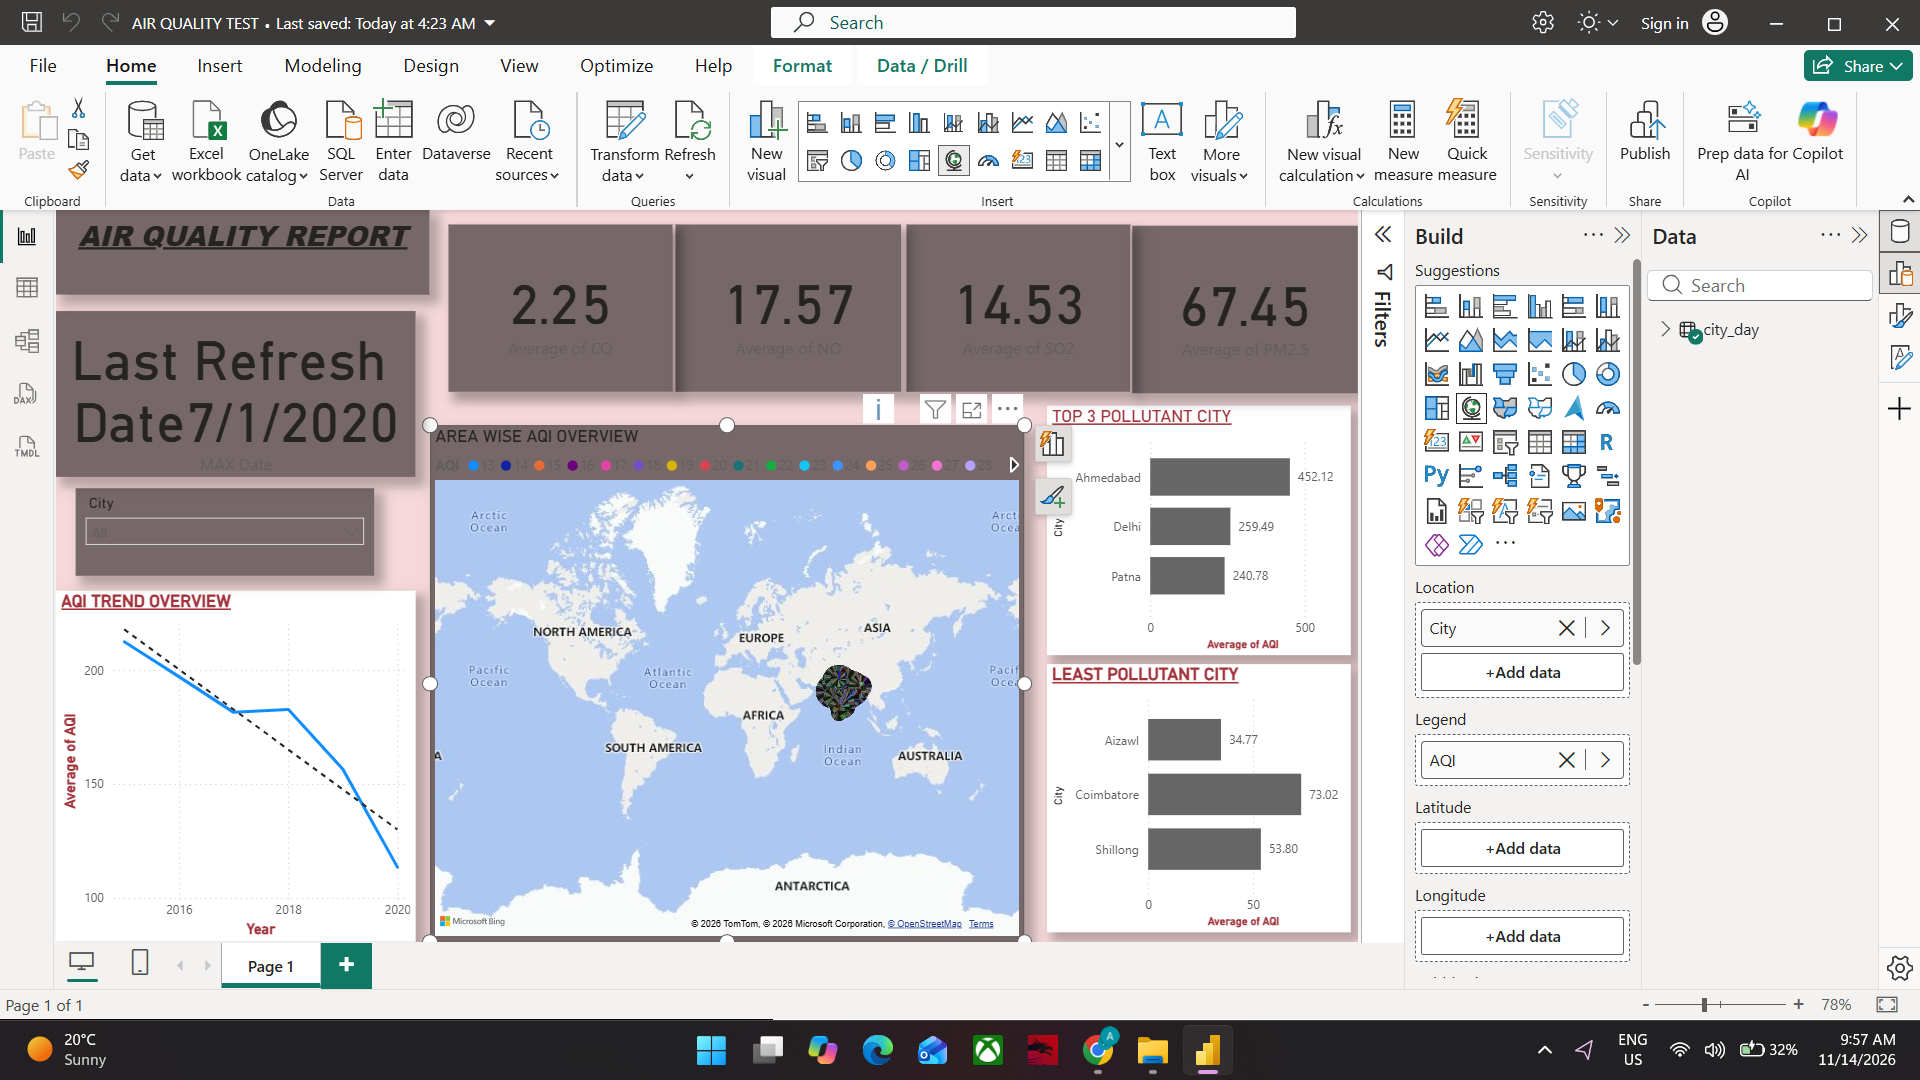

Layout of this report page (visuals, bound fields, positions):
{"tool":"powerbi","page":{"name":"Page 1","canvas":[1280,720],"ordinal":0},"visuals":[{"type":"lineChart","title":"AQI TREND OVERVIEW","fields":{"Category":["city_day.Date.Variation.Date Hierarchy.Year","city_day.Date.Variation.Date Hierarchy.Quarter","city_day.Date.Variation.Date Hierarchy.Month","city_day.Date.Variation.Date Hierarchy.Day"],"Y":["Avg(city_day.AQI)"]},"box":[0,373.8,353.4,345.5],"z":0},{"type":"slicer","fields":{"Values":["city_day.City"]},"box":[18.8,273.3,293.7,86.4],"z":1000},{"type":"barChart","title":"TOP 3 POLLUTANT CITY","fields":{"Category":["city_day.City"],"Y":["Avg(city_day.AQI)"]},"box":[973.7,191.6,298.4,245],"z":2000},{"type":"barChart","title":"LEAST POLLUTANT CITY","fields":{"Category":["city_day.City"],"Y":["Avg(city_day.AQI)"]},"box":[973.7,446,298.4,263.8],"z":3000},{"type":"card","fields":{"Values":["Avg(city_day.CO)"]},"box":[386.3,14.1,219.9,164.9],"z":4000},{"type":"card","fields":{"Values":["Avg(city_day.NO)"]},"box":[609.3,14.1,221.4,164.9],"z":5000},{"type":"card","fields":{"Values":["Avg(city_day.SO2)"]},"box":[835.5,14.1,219.9,164.9],"z":6000},{"type":"card","fields":{"Values":["Avg(city_day.PM2.5)"]},"box":[1058.5,15.7,221.4,164.9],"z":7000},{"type":"map","title":"AREA WISE AQI OVERVIEW","fields":{"Category":["city_day.City"],"Size":["Avg(city_day.AQI)"],"Series":["city_day.AQI"]},"box":[367.5,212,584.2,507.3],"z":8000},{"type":"textbox","box":[0,0,367.5,83.2],"z":9000},{"type":"card","fields":{"Values":["city_day.MAX Date"]},"box":[0,98.9,353.4,163.3],"z":10000}]}

Visuals, with their boxes on the page's 1280x720 design canvas (x1, y1, x2, y2). These are canvas units, not pixel positions in the 1920x1080 screenshot, which may show the page scaled, cropped or inside an application window:
"AQI TREND OVERVIEW" lineChart: <box>0,374,353,719</box>
slicer - city_day.City: <box>19,273,312,360</box>
"TOP 3 POLLUTANT CITY" barChart: <box>974,192,1272,437</box>
"LEAST POLLUTANT CITY" barChart: <box>974,446,1272,710</box>
card - Avg(city_day.CO): <box>386,14,606,179</box>
card - Avg(city_day.NO): <box>609,14,831,179</box>
card - Avg(city_day.SO2): <box>836,14,1055,179</box>
card - Avg(city_day.PM2.5): <box>1058,16,1280,181</box>
"AREA WISE AQI OVERVIEW" map: <box>368,212,952,719</box>
textbox: <box>0,0,368,83</box>
card - city_day.MAX Date: <box>0,99,353,262</box>
